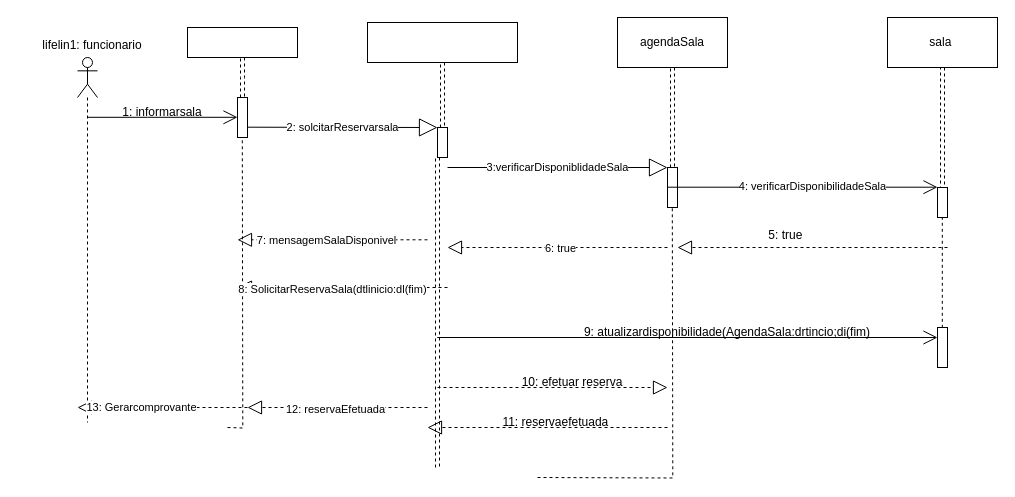
Some shapes in this 1015 by 497 pixel diagram are drawn without their labels. Each missing label, with the centre of its shape:
"agendamentoController" belongs at pixel 442 42.
"agendarView" belongs at pixel 242 42.
